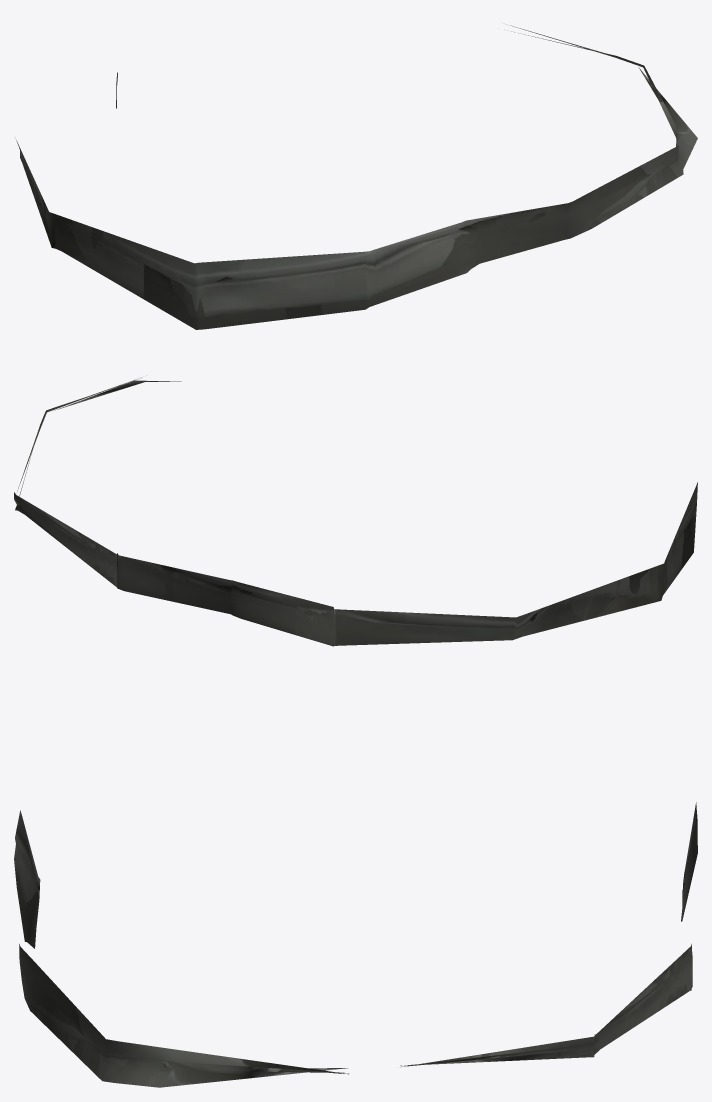
The picture shows the model from 3 angles, top to bottom: view 1: azimuth 30°, elevation 25°; view 2: azimuth 150°, elevation 25°; view 3: azimuth 270°, elevation 25°; orthographic projection. The views are drawn at different scales.
Visible parts, largest first — view 1: geometry_0; view 2: geometry_0; view 3: geometry_0.
Part boxes in pixels (x1=…): geometry_0: x1=15, y1=25, x2=697, y2=329; geometry_0: x1=14, y1=377, x2=697, y2=646; geometry_0: x1=14, y1=802, x2=697, y2=1087.
Bounding box in the file's own units: 0.3942 × 0.045 × 0.2847.
1 material, 1 textured.
